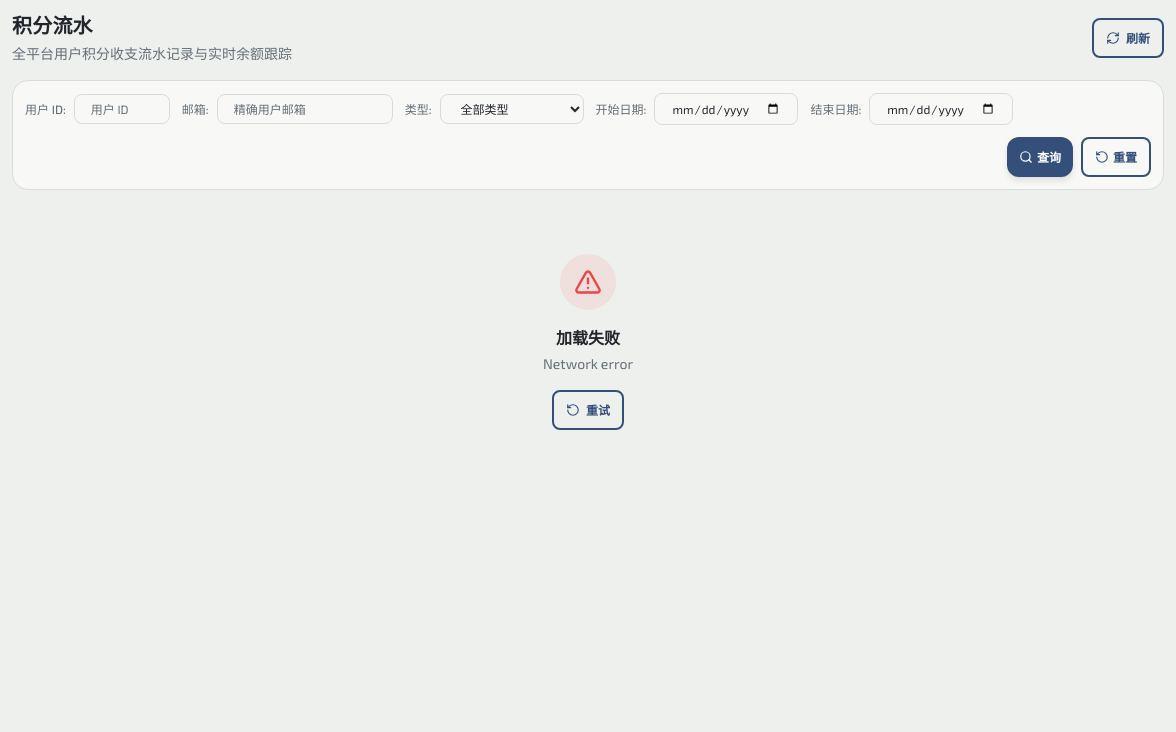
Test case: AdminPointLogPanel › renders error state and allows retry on API failure
Expected: the text "Network error" is shown, [543,354,633,374]
Click retry button
Step 1. Click the button "重试" → point(588, 410), box [552,390,624,430]
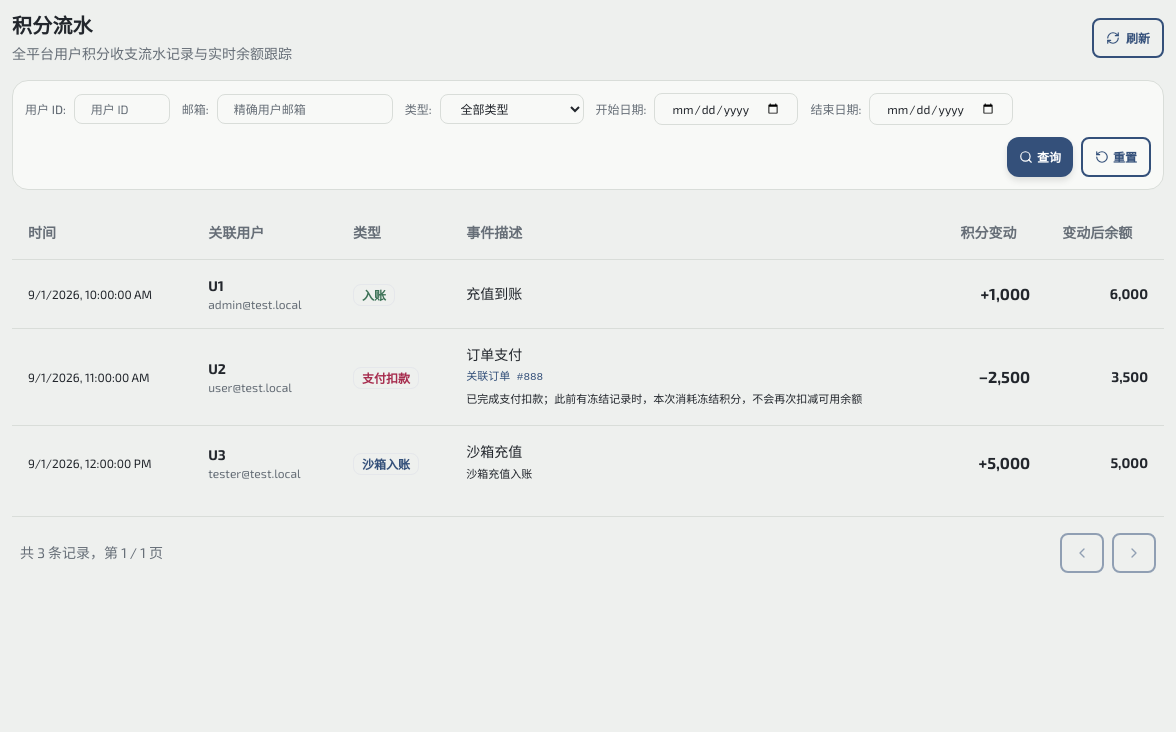
Result: the text "充值到账" is shown at [466,285,522,302]
